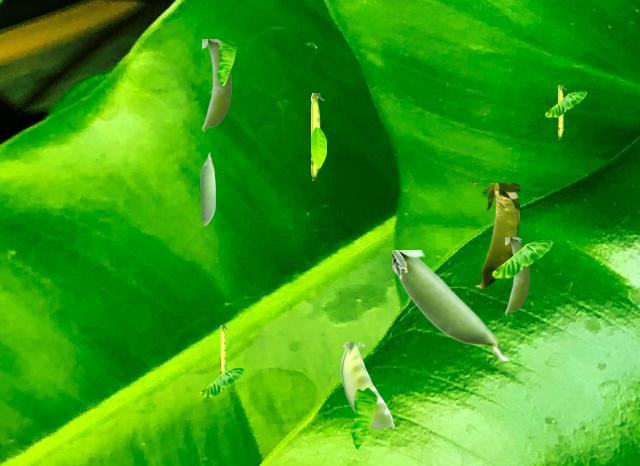pea: (392, 250, 508, 359), (340, 342, 393, 433), (474, 183, 518, 288), (202, 39, 230, 130), (505, 237, 528, 314), (311, 93, 323, 179), (200, 152, 214, 224), (558, 85, 565, 138), (220, 325, 227, 374)
